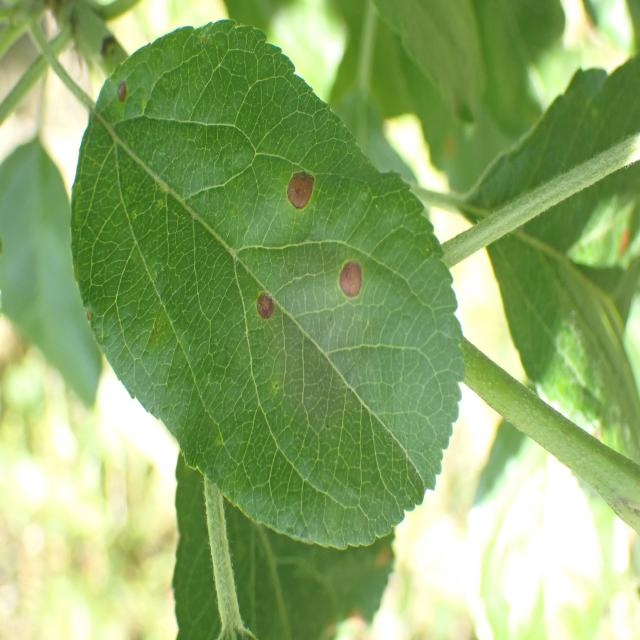Black Rot: (274, 151, 328, 214), (328, 241, 366, 311), (250, 286, 286, 348), (110, 76, 132, 120)
